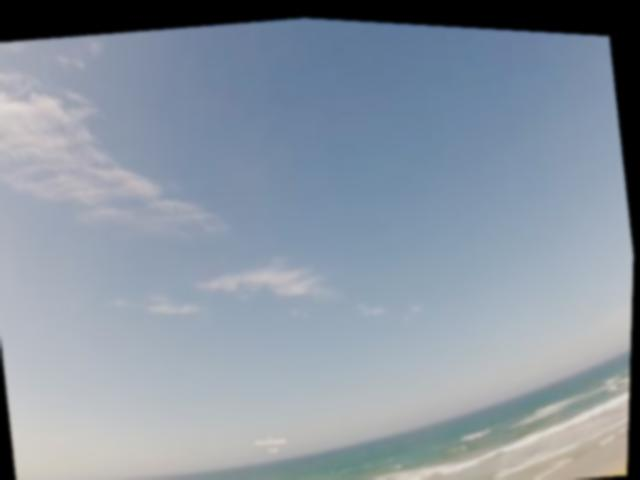uav: (255, 426, 292, 454)
